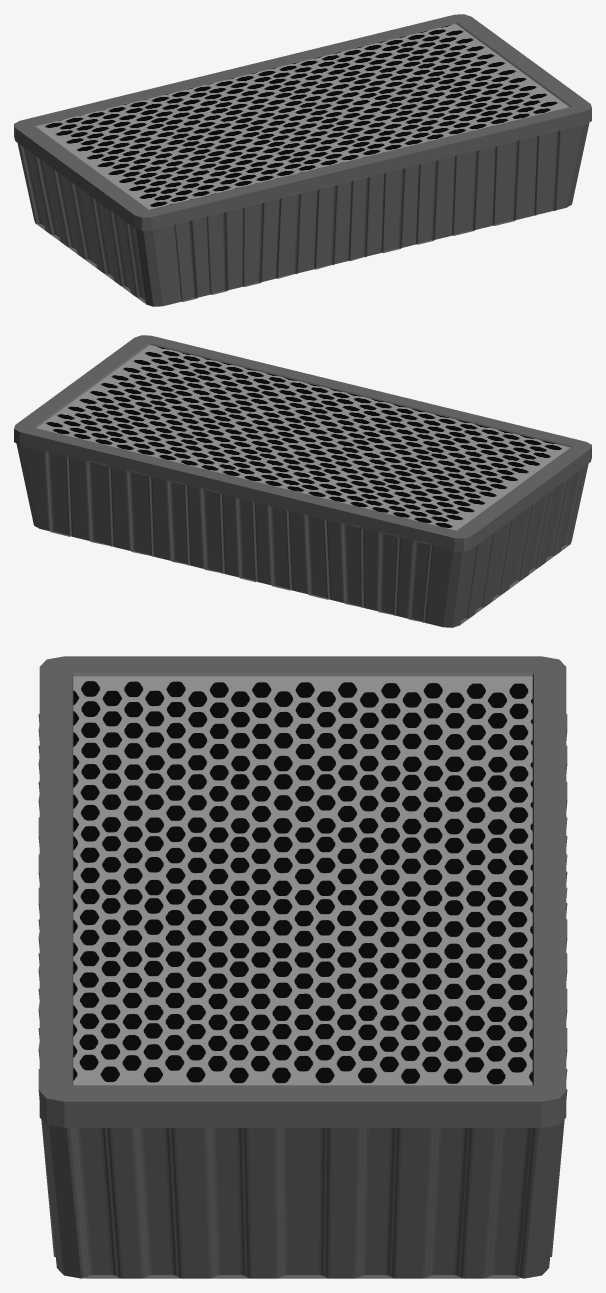
The model's file is One use BBQ.fbx.
The picture shows the model from 3 angles, top to bottom: view 1: azimuth 30°, elevation 25°; view 2: azimuth 150°, elevation 25°; view 3: azimuth 270°, elevation 25°; orthographic projection. The views are drawn at different scales.
Visible parts, largest first — view 1: pCube1; view 2: pCube1; view 3: pCube1.
Part boxes in pixels (x1,y1,x2,y2): pCube1: (14,14,591,306); pCube1: (14,335,591,627); pCube1: (38,656,567,1278).
Bounding box in the file's own units: 0.5031 × 0.1013 × 0.2526.
2 materials, 1 textured.
